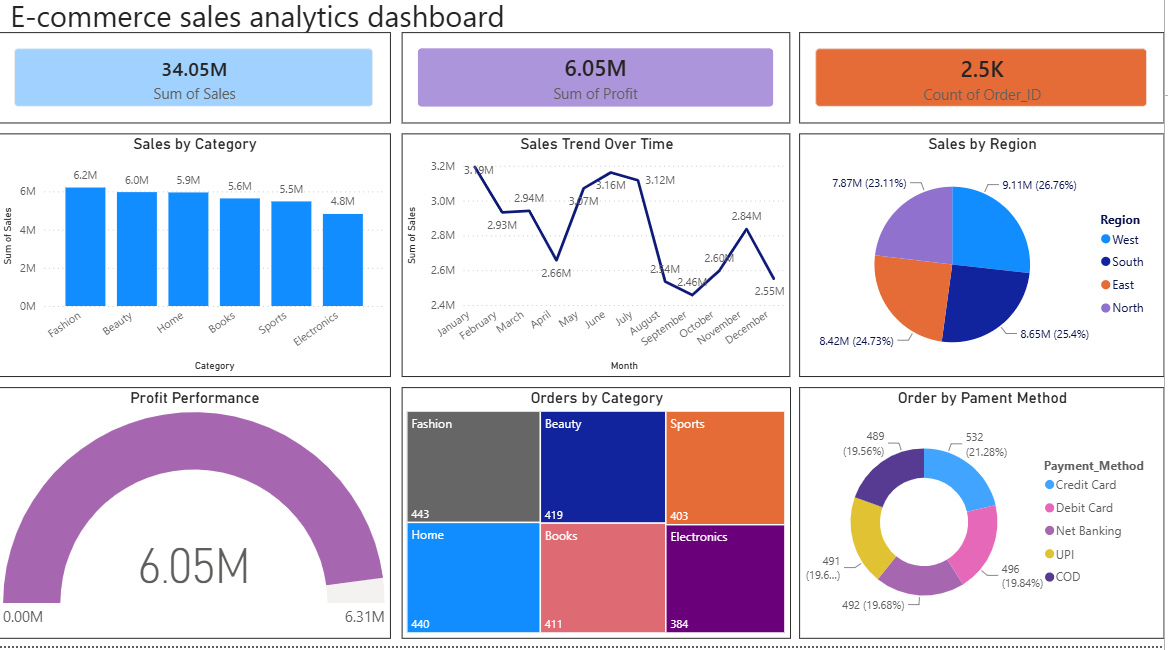

Layout of this report page (visuals, bound fields, positions):
{"tool":"powerbi","page":{"name":"Page 1","canvas":[1280,720],"ordinal":0},"visuals":[{"type":"textbox","box":[0,0,569.5,54.9],"z":0},{"type":"clusteredColumnChart","title":"Sales by Category","fields":{"Category":["SalesData.Category"],"Y":["Sum(SalesData.Sales)"]},"box":[0,156.4,430.9,267.6],"z":1000},{"type":"cardVisual","fields":{"Data":["Sum(SalesData.Sales)"]},"box":[0,45.3,430.9,100.2],"z":2000},{"type":"gauge","title":"Profit Performance","fields":{"Y":["Sum(SalesData.Profit)"],"MaxValue":["Sum(SalesData.Unit_Price)"]},"box":[0,435,430.9,275.8],"z":3000},{"type":"lineChart","title":"Sales Trend Over Time","fields":{"Category":["SalesData.Order_Date.Variation.Date Hierarchy.Month"],"Y":["Sum(SalesData.Sales)"]},"box":[443.2,156.4,426.8,267.6],"z":4000},{"type":"pieChart","title":" Sales by Region","fields":{"Category":["SalesData.Region"],"Y":["Sum(SalesData.Sales)"]},"box":[879.6,156.4,400.7,267.6],"z":5000},{"type":"cardVisual","title":"Total Profit","fields":{"Data":["Sum(SalesData.Profit)"]},"box":[443.2,45.3,426.8,100.2],"z":5002},{"type":"cardVisual","fields":{"Data":["CountNonNull(SalesData.Order_ID)"]},"box":[879.6,45.3,400.7,100.2],"z":5003},{"type":"donutChart","title":"Order by Pament Method","fields":{"Category":["SalesData.Payment_Method"],"Y":["CountNonNull(SalesData.City)"]},"box":[879.6,435,400.7,275.8],"z":5004},{"type":"treemap","title":"Orders by Category","fields":{"Group":["SalesData.Category"],"Values":["CountNonNull(SalesData.Region)"]},"box":[443,435,427,276],"z":5005}]}

Visuals, with their boxes in screenshot pixels (x1, y1, x2, y2), scaled from the page's 1280x720 canvas onto the 1168x650 screenshot:
textbox: {"x1": 0, "y1": 0, "x2": 520, "y2": 50}
"Sales by Category" clusteredColumnChart: {"x1": 0, "y1": 141, "x2": 393, "y2": 383}
cardVisual - Sum(SalesData.Sales): {"x1": 0, "y1": 41, "x2": 393, "y2": 131}
"Profit Performance" gauge: {"x1": 0, "y1": 393, "x2": 393, "y2": 642}
"Sales Trend Over Time" lineChart: {"x1": 404, "y1": 141, "x2": 794, "y2": 383}
" Sales by Region" pieChart: {"x1": 803, "y1": 141, "x2": 1167, "y2": 383}
"Total Profit" cardVisual: {"x1": 404, "y1": 41, "x2": 794, "y2": 131}
cardVisual - CountNonNull(SalesData.Order_ID): {"x1": 803, "y1": 41, "x2": 1167, "y2": 131}
"Order by Pament Method" donutChart: {"x1": 803, "y1": 393, "x2": 1167, "y2": 642}
"Orders by Category" treemap: {"x1": 404, "y1": 393, "x2": 794, "y2": 642}
